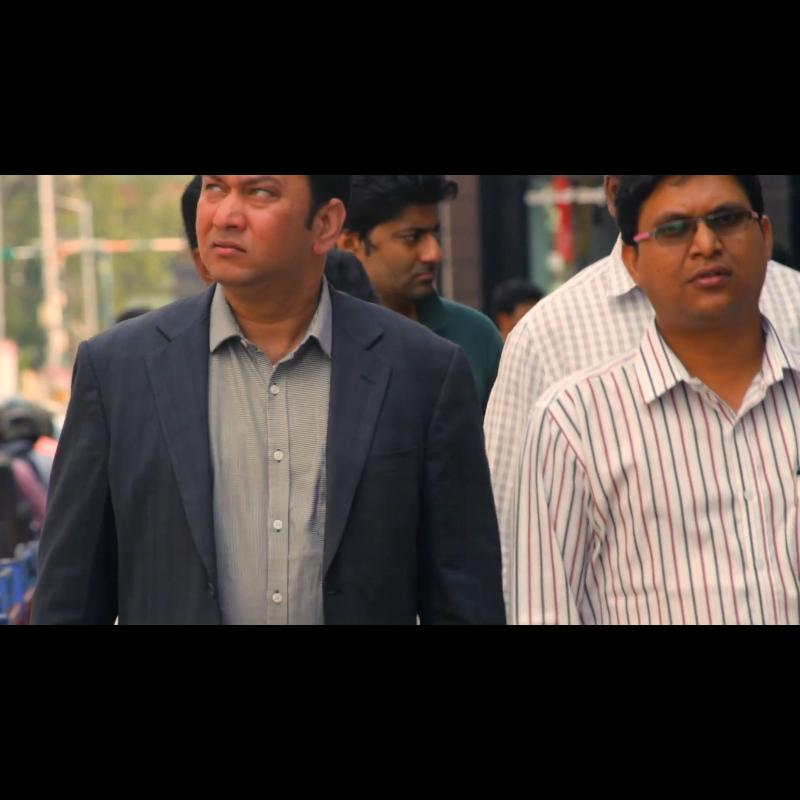Shirt: (76, 309, 474, 625), (500, 324, 800, 625)
